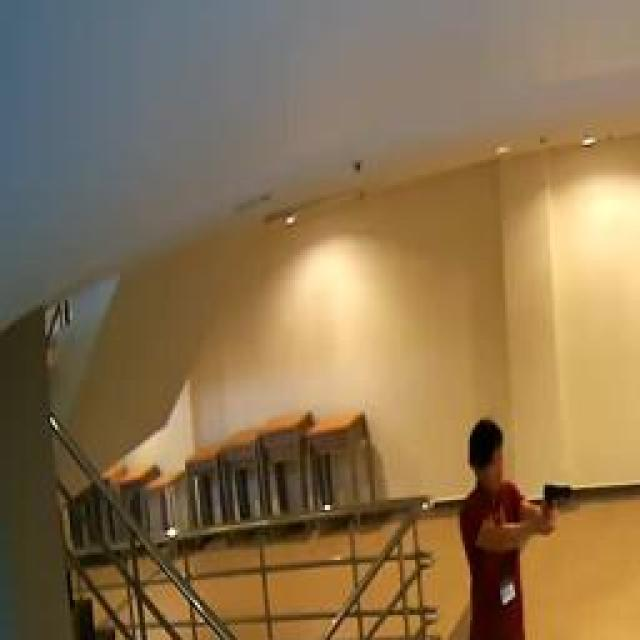Guns: (528, 471, 598, 532)
